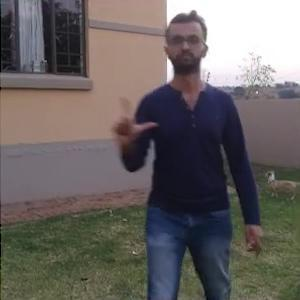land_hand: (102, 86, 157, 145)
